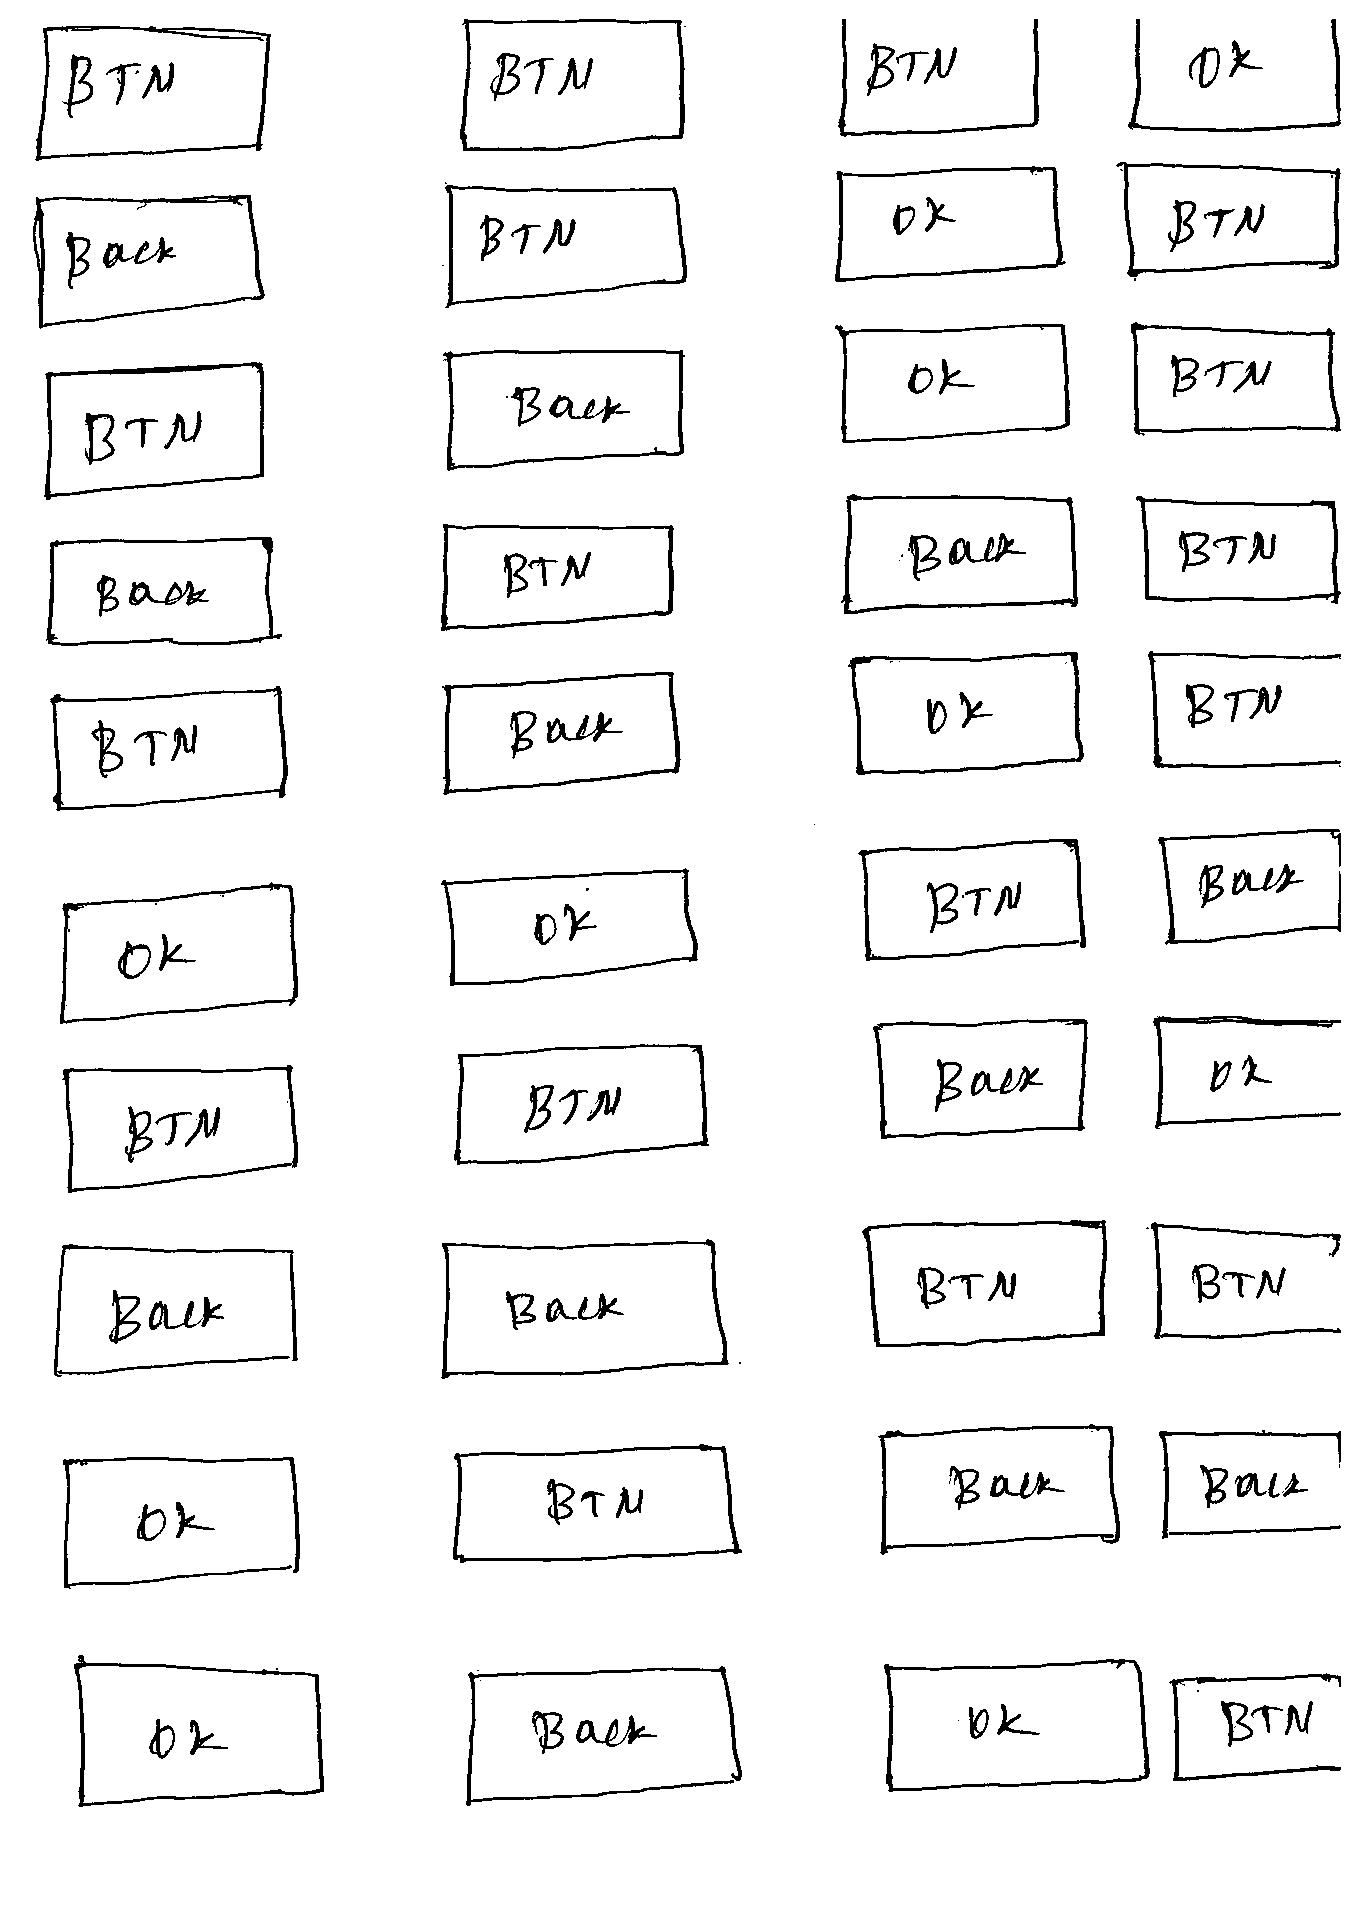Button: (874, 1653, 1156, 1793), (441, 1241, 729, 1378), (466, 1666, 744, 1804), (74, 1659, 327, 1808), (59, 883, 297, 1025), (52, 1241, 299, 1377), (35, 24, 272, 163), (33, 191, 268, 330), (860, 1218, 1109, 1348), (61, 1455, 302, 1588), (878, 1424, 1121, 1552), (441, 868, 699, 988), (458, 16, 686, 152), (455, 1042, 707, 1165), (62, 1065, 299, 1195), (444, 183, 687, 309), (44, 361, 266, 498), (442, 671, 679, 797), (850, 651, 1084, 778), (445, 349, 686, 472), (50, 688, 288, 812), (843, 492, 1081, 617), (837, 322, 1072, 444), (859, 838, 1087, 961), (832, 166, 1064, 284), (872, 1017, 1090, 1140), (44, 537, 278, 648), (441, 523, 676, 631), (1122, 163, 1341, 275), (1129, 321, 1342, 436), (1137, 492, 1342, 605), (1158, 827, 1342, 943), (1158, 1428, 1345, 1538)
